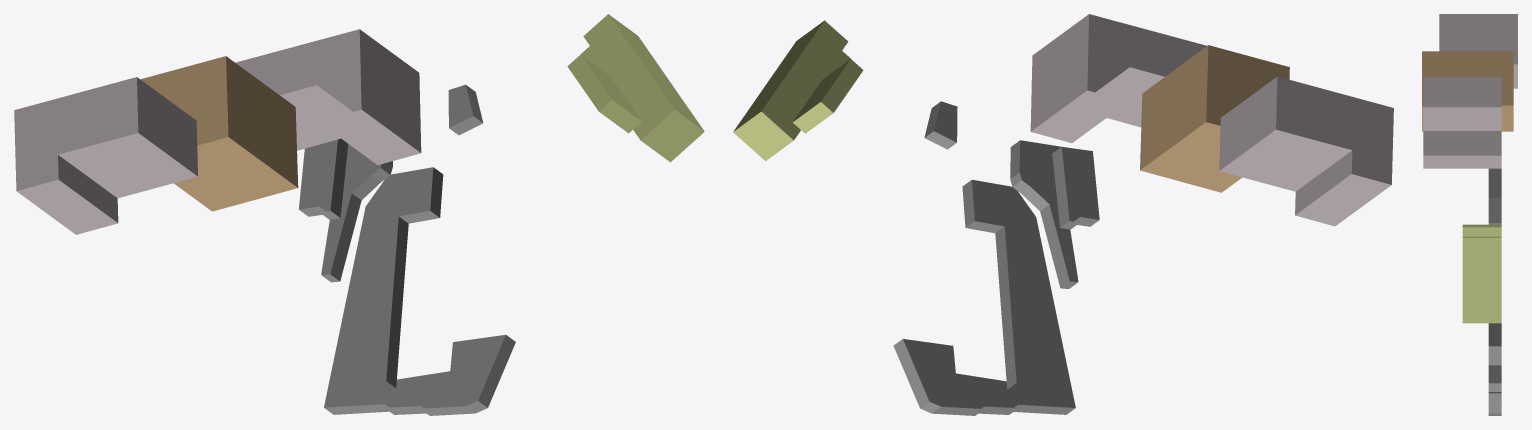
3 views of the same model, side by side, from view 1: azimuth 30°, elevation 25°; view 2: azimuth 150°, elevation 25°; view 3: azimuth 270°, elevation 25° (orthographic). The views are drawn at different scales.
Parts seen in each view (by area): view 1: 0_3_2_0_2_2_3_2; view 2: 0_3_2_0_2_2_3_2; view 3: 0_3_2_0_2_2_3_2.
Boxes of the visible parts, x1,y1,x2,y2 form: 0_3_2_0_2_2_3_2: (14,14,704,415); 0_3_2_0_2_2_3_2: (733,14,1393,415); 0_3_2_0_2_2_3_2: (1422,14,1517,415).
Bounding box in the file's own units: 113 × 67.01 × 22.
